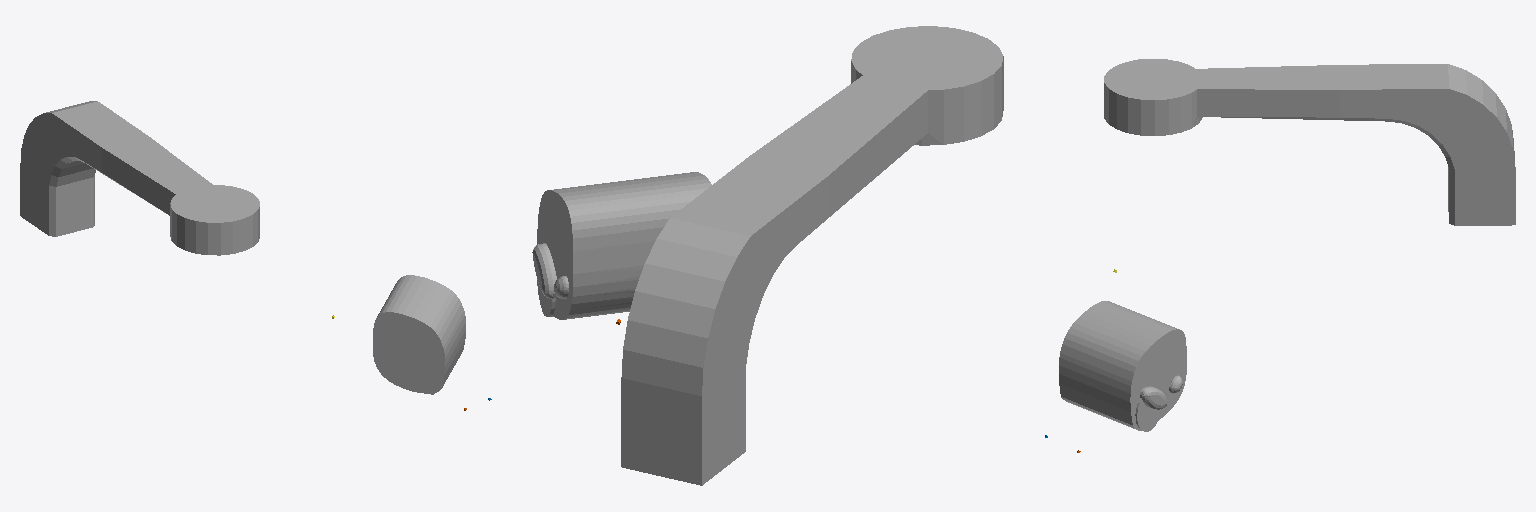
robot.urdf — aubo_i3:
<?xml version="1.0"?>
<robot name="aubo_i3">

<property name="pi" value="3.1415926" />

  <link name="world" />
  <joint name="world_joint" type="fixed">
    <parent link="world" />
    <child link ="mounter" />
    <origin xyz="0.0 -0.658 0.0" rpy="0 0 0.02618" />
  </joint>

  <link name="mounter">
    <visual>
      <geometry>
        <mesh filename="package://aubo_description/meshes/aubo_i3/collision/mounter_front_new.stl"/>
      </geometry>
      <material name="LightGrey">
        <color rgba="0.7 0.7 0.7 1.0"/>
      </material>
    </visual>
    <collision>
      <geometry>
        <mesh filename="package://aubo_description/meshes/aubo_i3/collision/mounter_front_new.stl"/>
      </geometry>
    </collision>
  </link>
  <joint name="mounter_joint" type="fixed">
    <parent link="mounter" />
    <child link = "base_link" />
    <origin xyz="0.0 0 0.0" rpy="3.14159 0.0 5.49780" />
  </joint>

  <link name="base_link">
    <inertial>
      <origin xyz="2.1698E-06 0.00017917 0.036984" rpy="0 1.5708 0" />
      <mass value="0.97332" />
      <inertia ixx="0.0015063" ixy="0" ixz="0" iyy="0.0014907" iyz="0" izz="0.0019063" />
    </inertial>
    <visual>
      <origin xyz="0 0 0" rpy="0 0 0" />
      <geometry>
        <mesh filename="package://aubo_description/meshes/aubo_i3/visual/base_link.DAE" />
      </geometry>
      <material name="">
        <color rgba="0.29804 0.29804 0.29804 1" />
      </material>
    </visual>
    <collision>
      <origin  xyz="0 0 0"  rpy="0 0 0" />
      <geometry>
        <mesh filename="package://aubo_description/meshes/aubo_i3/collision/base_link.STL" />
      </geometry>
    </collision>
  </link>

  <link name="shoulder_Link">
    <inertial>
      <origin xyz="-2.9523E-07 0.0037104 -0.0023315" rpy="0 0 0" />
      <mass value="1.173" />
      <inertia ixx="0.0026259" ixy="0" ixz="0" iyy="0.0025333" iyz="0" izz="0.0016014" />
    </inertial>
    <visual>
      <origin xyz="0 0 0" rpy="0 0 0" />
      <geometry>
        <mesh filename="package://aubo_description/meshes/aubo_i3/visual/shoulder_Link.DAE" />
      </geometry>
      <material name="">
        <color rgba="0.29804 0.29804 0.29804 1" />
      </material>
    </visual>
    <collision>
      <origin xyz="0 0 0" rpy="0 0 0" />
      <geometry>
        <mesh filename="package://aubo_description/meshes/aubo_i3/collision/shoulder_Link.STL" />
      </geometry>
    </collision>
  </link>
  <joint name="shoulder_joint" type="revolute">
    <origin xyz="0 0 0.157" rpy="0 0 3.1416" />
    <parent link="base_link" />
    <child link="shoulder_Link" />
    <axis xyz="0 0 1" />
    <limit lower="-5.41052" upper="1.74532" effort="0" velocity="0" />
  </joint>

  <link name="upperArm_Link">
    <inertial>
      <origin xyz="0.1186 1.7713E-06 0.0063972" rpy="0 0 0" />
      <mass value="2.7791" />
      <inertia ixx="0.0046752" ixy="0" ixz="0.00015757" iyy="0.040156" iyz="0" izz="0.038401" />
    </inertial>
    <visual>
      <origin  xyz="0 0 0" rpy="0 0 0" />
      <geometry>
        <mesh filename="package://aubo_description/meshes/aubo_i3/visual/upperArm_Link.DAE" />
      </geometry>
      <material name="">
        <color rgba="0.29804 0.29804 0.29804 1" />
      </material>
    </visual>
    <collision>
      <origin xyz="0 0 0" rpy="0 0 0" />
      <geometry>
        <mesh filename="package://aubo_description/meshes/aubo_i3/collision/upperArm_Link.STL" />
      </geometry>
    </collision>
  </link>
  <joint name="upperArm_joint" type="revolute">
    <origin xyz="0 0.119 0" rpy="-1.5708 -1.5708 0" />
    <parent link="shoulder_Link" />
    <child link="upperArm_Link" />
    <axis xyz="0 0 1" />
    <limit lower="-3.31612" upper="-0.78539" effort="0" velocity="0" />
  </joint>

  <link name="foreArm_Link">
    <inertial>
      <origin xyz="0.15095 3.6355E-05 0.1001" rpy="0 0 0" />
      <mass value="1.5214" />
      <inertia ixx="0.0014873" ixy="0" ixz="-0.00055006" iyy="0.016144" iyz="0" izz="0.015711" />
    </inertial>
    <visual>
      <origin xyz="0 0 0" rpy="0 0 0" />
      <geometry>
        <mesh filename="package://aubo_description/meshes/aubo_i3/visual/foreArm_Link.DAE" />
      </geometry>
      <material name="">
        <color rgba="0.77647 0.75686 0.73725 1" />
      </material>
    </visual>
    <collision>
      <origin xyz="0 0 0" rpy="0 0 0" />
      <geometry>
        <mesh filename="package://aubo_description/meshes/aubo_i3/collision/foreArm_Link.STL" />
      </geometry>
    </collision>
  </link>
  <joint name="foreArm_joint" type="revolute">
    <origin xyz="0.266 0 0" rpy="3.1416 0 0" />
    <parent link="upperArm_Link" />
    <child link="foreArm_Link" />
    <axis xyz="0 0 1" />
    <limit lower="-2.96705" upper="-0.08726" effort="0" velocity="0" />
  </joint>

  <link name="wrist1_Link">
    <inertial>
      <origin xyz="-7.0582E-05 -0.0015345 -0.0029597" rpy="0 0 0" />
      <mass value="0.63348" />
      <inertia ixx="0.0009362" ixy="0" ixz="0" iyy="0.00051333" iyz="0" izz="0.00090515" />
    </inertial>
    <visual>
      <origin xyz="0 0 0" rpy="0 0 0" />
      <geometry>
        <mesh filename="package://aubo_description/meshes/aubo_i3/visual/wrist1_Link.DAE" />
      </geometry>
      <material name="">
        <color rgba="0.79216 0.81961 0.93333 1" />
      </material>
    </visual>
    <collision>
      <origin xyz="0 0 0" rpy="0 0 0" />
      <geometry>
        <mesh filename="package://aubo_description/meshes/aubo_i3/collision/wrist1_Link.STL" />
      </geometry>
    </collision>
  </link>
  <joint name="wrist1_joint" type="revolute">
    <origin xyz="0.2565 0 0" rpy="3.1416 0 1.5708" />
    <parent link="foreArm_Link" />
    <child link="wrist1_Link" />
    <axis xyz="0 0 -1" />
    <limit lower="-4.71239" upper="0.0" effort="0" velocity="0" />
  </joint>

  <link name="wrist2_Link">
    <inertial>
      <origin xyz="7.0582E-05 0.0015345 -0.0029597" rpy="0 0 0" />
      <mass value="0.63348" />
      <inertia ixx="0.0009362" ixy="0" ixz="0" iyy="0.00051333" iyz="7.4602E-06" izz="0.00090515" />
    </inertial>
    <visual>
      <origin xyz="0 0 0" rpy="0 0 0" />
      <geometry>
        <mesh filename="package://aubo_description/meshes/aubo_i3/visual/wrist2_Link.DAE" />
      </geometry>
      <material name="">
        <color rgba="0.79216 0.81961 0.93333 1" />
      </material>
    </visual>
    <collision>
      <origin xyz="0 0 0" rpy="0 0 0" />
      <geometry>
        <mesh filename="package://aubo_description/meshes/aubo_i3/collision/wrist2_Link.STL" />
      </geometry>
    </collision>
  </link>
  <joint name="wrist2_joint" type="revolute">
    <origin xyz="0 0.1025 0" rpy="-1.5708 0 0" />
    <parent link="wrist1_Link" />
    <child  link="wrist2_Link" />
    <axis xyz="0 0 1" />
    <limit lower="-1.57080" upper="0.0" effort="0" velocity="0" />
  </joint>

  <link name="wrist3_Link">
    <inertial>
      <origin xyz="8.8789E-10 0.00040506 -0.01865" rpy="0 0 0" />
      <mass value="0.13713" />
      <inertia ixx="6.1911E-05" ixy="0"  ixz="0" iyy="5.9471E-05" iyz="2.8126E-07" izz="9.7957E-05" />
    </inertial>
    <visual>
      <origin xyz="0 0 0" rpy="0 0 0" />
      <geometry>
        <mesh filename="package://aubo_description/meshes/aubo_i3/visual/wrist3_Link.DAE" />
      </geometry>
      <material name="">
        <color rgba="0.25098 0.25098 0.25098 1" />
      </material>
    </visual>
    <collision>
      <origin  xyz="0 0 0" rpy="0 0 0" />
      <geometry>
        <mesh filename="package://aubo_description/meshes/aubo_i3/collision/wrist3_Link.STL" />
      </geometry>
    </collision>
  </link>
  <joint name="wrist3_joint" type="revolute">
    <origin xyz="0 -0.094 0" rpy="1.5708 0 0" />
    <parent link="wrist2_Link" />
    <child link="wrist3_Link" />
    <axis xyz="0 0 -1" />
    <limit lower="-1.29154" upper="2.96705" effort="0" velocity="0" />
  </joint>

  <!-- modified line here -->
  <link name="ee_link">
      <visual>
        <geometry>
          <box size="0.005 0.005 0.005"/>
        </geometry>
        <origin rpy="0 0 0" xyz="0 0 0"/>
      </visual>
  </link>
  <joint name="ee_fixed_joint" type="fixed">
    <parent link="wrist3_Link" />
    <child link = "ee_link" />
    <!-- what's the value of "xyz" ? -->
    <origin xyz="0.0 0.0 0.0" rpy="0.0 0.0 1.57079" />
  </joint>

  <link name="tool0"/>
  <joint name="wrist3_Link-tool0_fixed_joint" type="fixed">
    <origin xyz="0 0 0" rpy="-1.57079 0 0"/>
    <parent link="wrist3_Link"/>
    <child link="tool0"/>
  </joint>
  <link name="camera_link">
    <visual>
      <geometry>
        <box size="0.005 0.005 0.005"/>
      </geometry>
      <origin rpy="0 0 0" xyz="0 0 0"/>
    </visual>
  </link>
  <joint name="vision_joint" type="fixed">
    <origin xyz="-0.172481 0.102860 -0.090900" rpy="0.105282 -0.048103 -0.107558"/>
    <parent link="ee_link"/>
    <child link="camera_link"/>
  </joint>

  <link name="finger">
    <visual>
      <geometry>
        <box size="0.005 0.005 0.005"/>
      </geometry>
      <origin rpy="0 0 0" xyz="0 0 0"/>
    </visual>
  </link>
  <joint name="eelink_finger_joint" type="fixed">
    <origin xyz="0.181500 -0.071350 0.028340" rpy="0.59341 0 0"/>
    <parent link="ee_link"/>
    <child link="finger"/>
  </joint>

  <link name="palm">
    <visual>
      <geometry>
        <box size="0.005 0.005 0.005"/>
      </geometry>
      <origin rpy="0 0 0" xyz="0 0 0"/>
    </visual>
  </link>
  <joint name="eelink_palm_joint" type="fixed">
    <origin xyz="0.188930 0.005870 0.059050" rpy="0.59341 0 0"/>
    <parent link="ee_link"/>
    <child link="palm"/>
  </joint>

  <link name="eef_link">
    <visual>
      <geometry>
        <mesh filename="package://aubo_description/meshes/aubo_i3/collision/eef_new.stl"/>
      </geometry>
      <material name="LightGrey">
        <color rgba="0.7 0.7 0.7 1.0"/>
      </material>
    </visual>
    <collision>
      <geometry>
        <mesh filename="package://aubo_description/meshes/aubo_i3/collision/eef_new.stl"/>
      </geometry>
    </collision>
  </link>
  <joint name="eef_joint" type="fixed">
    <parent link="ee_link" />
    <child link = "eef_link" />
    <origin xyz="0.0 0.0 0.0" rpy="3.14159 -1.5708 0.0" />
  </joint>

</robot>

--- What the picture shows (computed from the rendered views, not written in the file) ---
Views: 3 orthographic renders of the robot side by side, from view 1: azimuth 30°, elevation 25°; view 2: azimuth 150°, elevation 25°; view 3: azimuth 270°, elevation 25°.
Model aubo_i3 with 15 links and 14 joints (6 revolute, 8 fixed), rooted at world, posed joints at zero except 2 at the middle of their limits (upperArm_joint = -2.05, foreArm_joint = -1.53).
Visible links, largest first — view 1: mounter, eef_link; view 2: mounter, eef_link; view 3: mounter, eef_link.
Link boxes in pixels (<box>): mounter: <box>20,101,259,255</box>; eef_link: <box>373,275,465,394</box>; mounter: <box>621,26,1003,485</box>; eef_link: <box>532,172,711,319</box>; mounter: <box>1104,59,1515,225</box>; eef_link: <box>1059,301,1186,431</box>.
Bounding box of the posed robot: 0.7167 × 0.9505 × 0.5747 m (x, y, z).
2 mesh visuals loaded from 9 distinct referenced files (2 binary STL); not drawn: 7 (reference not matched to a file when rendering).